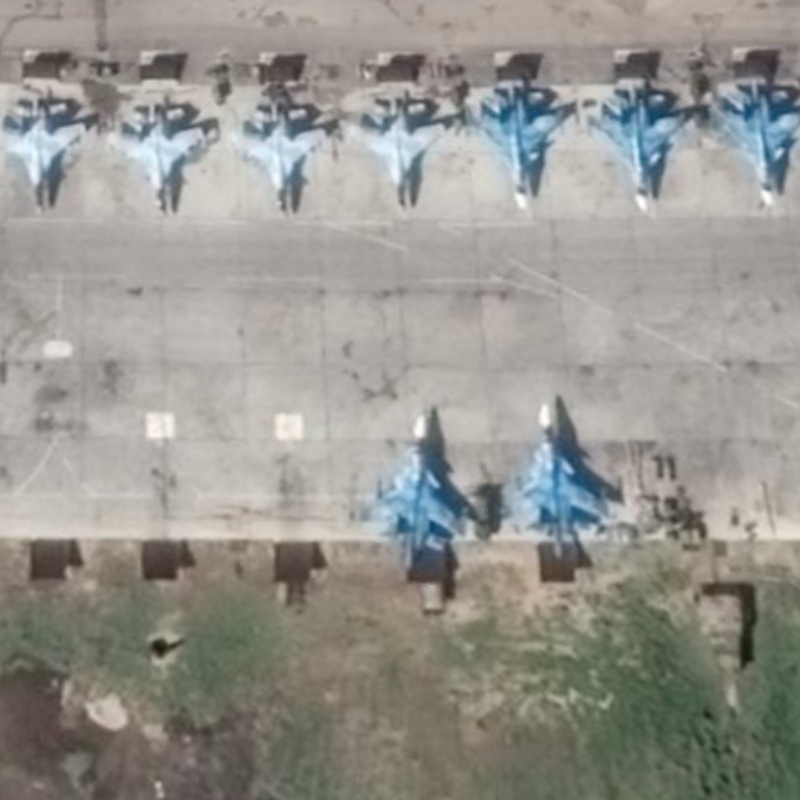A1: (113, 100, 209, 219), (235, 100, 329, 220), (356, 94, 450, 212), (1, 97, 90, 219)
A19: (492, 399, 612, 562), (351, 411, 470, 572), (587, 82, 700, 215), (466, 80, 567, 212), (710, 77, 800, 210)
